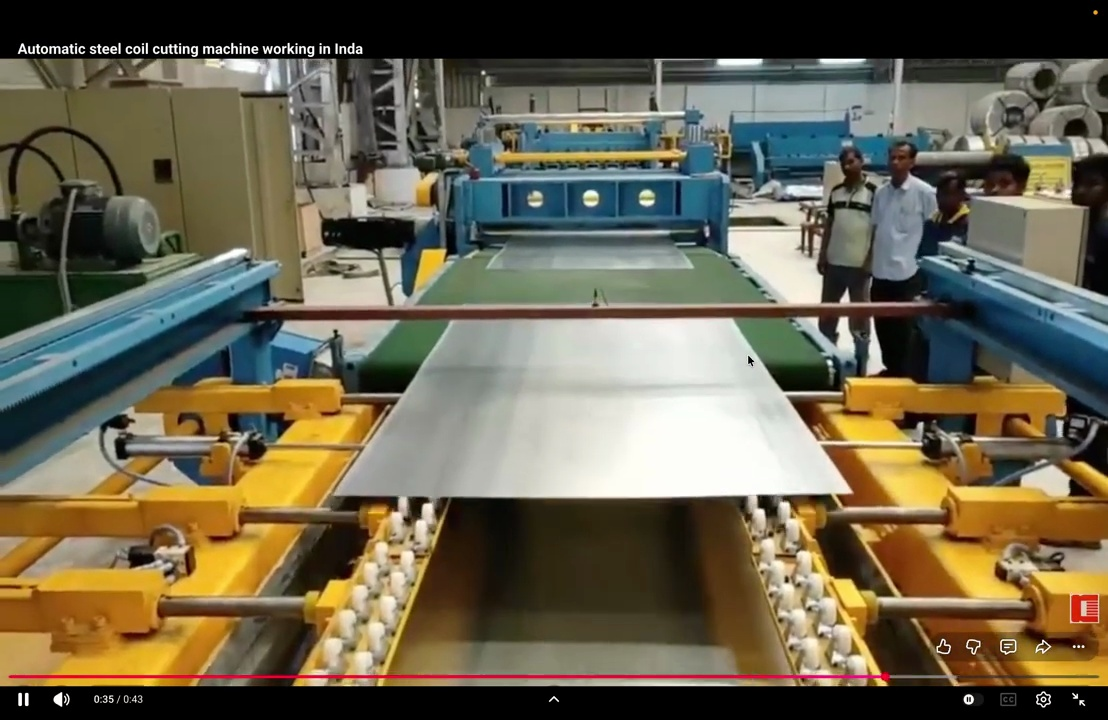steel plate: (337, 319, 849, 498), (486, 235, 692, 269)
